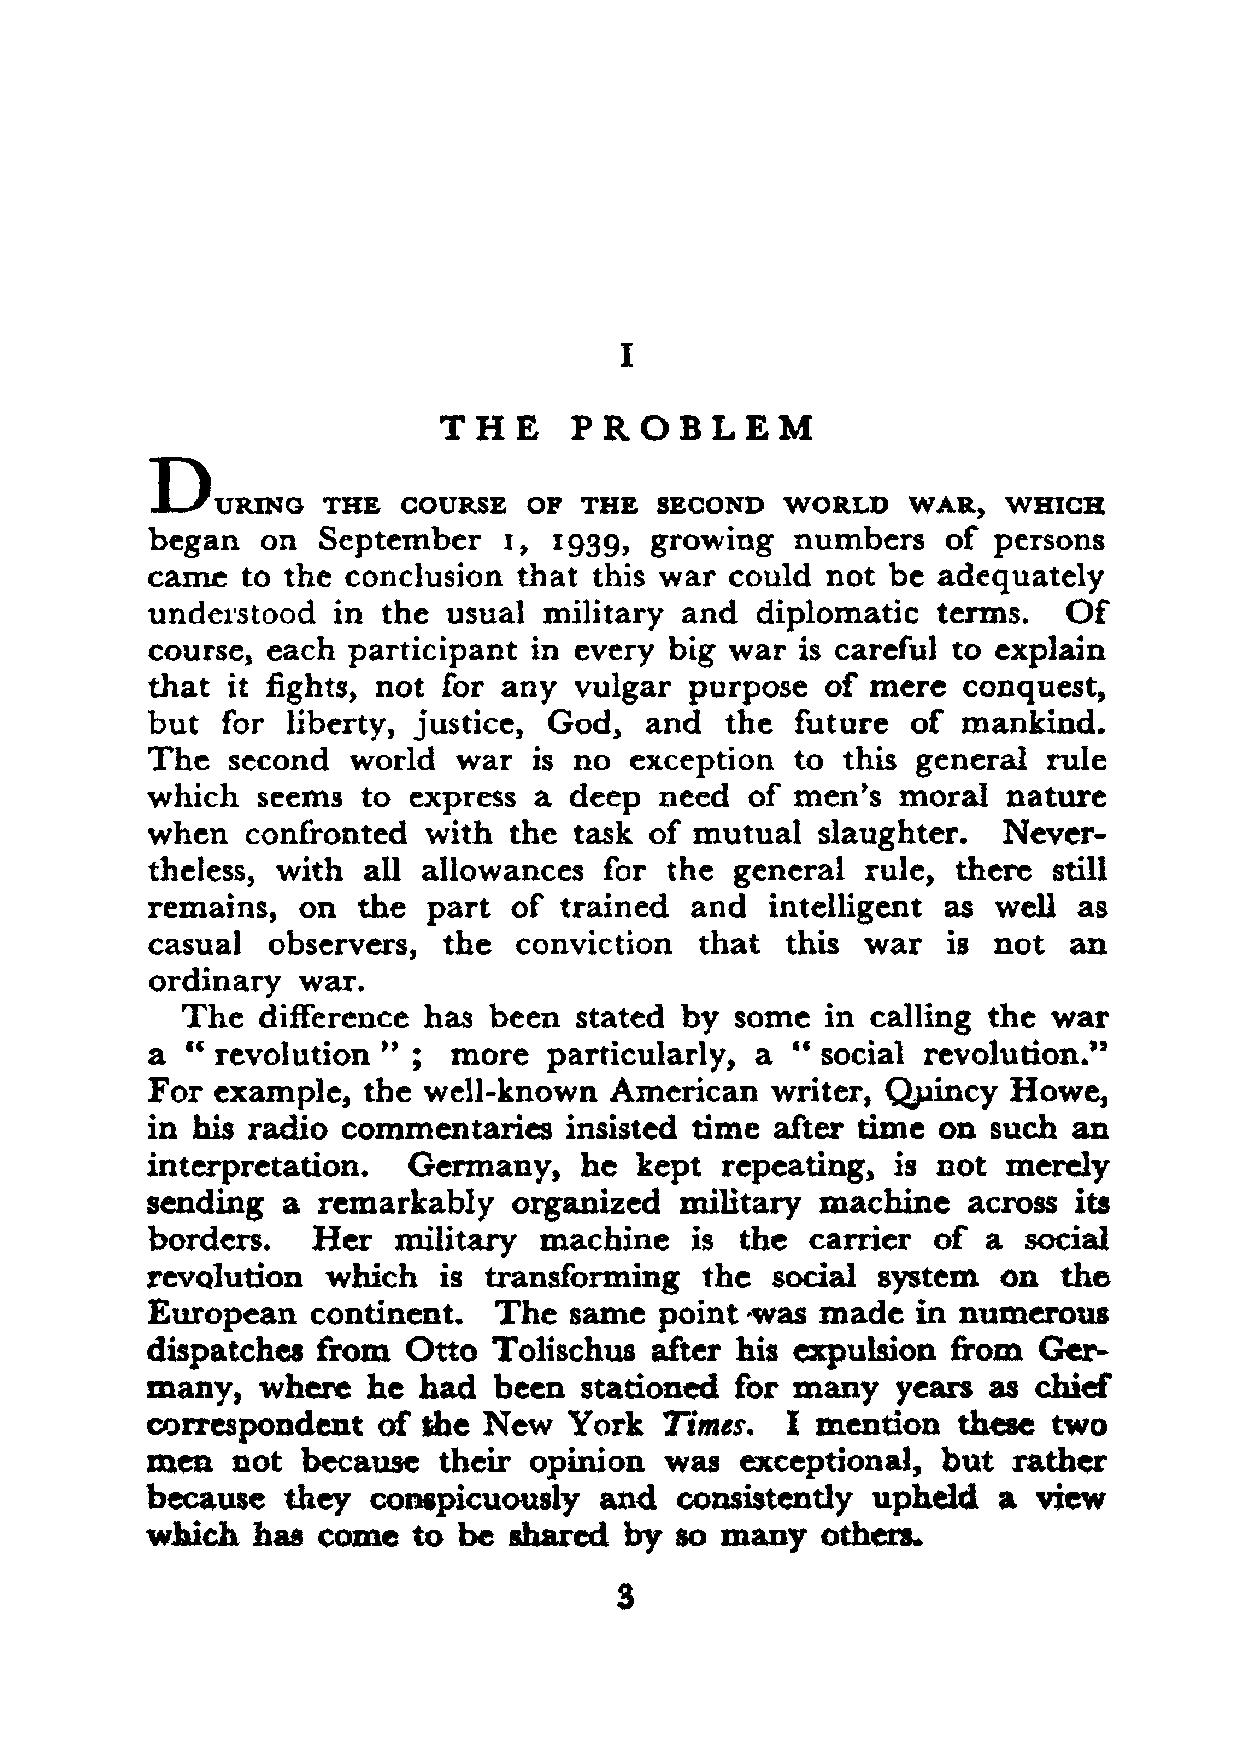chapter: (433, 340, 815, 446)
content: (140, 452, 1111, 1553)
content_pagenumber: (615, 1580, 641, 1618)
